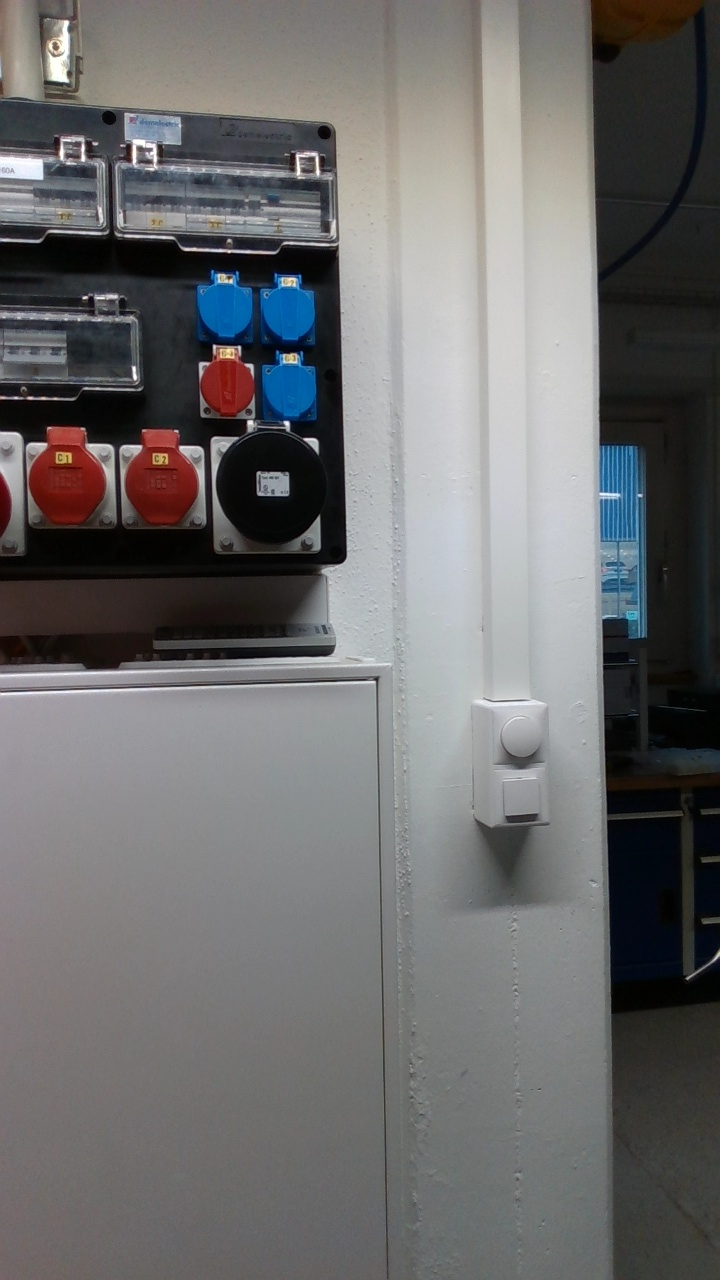Light_Switch: (489, 762, 552, 827), (491, 705, 550, 764)
